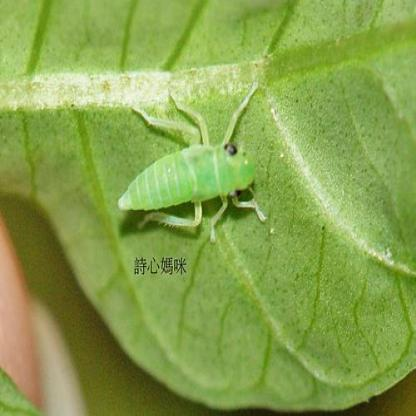Green-Leafhopper: (116, 84, 268, 242)
